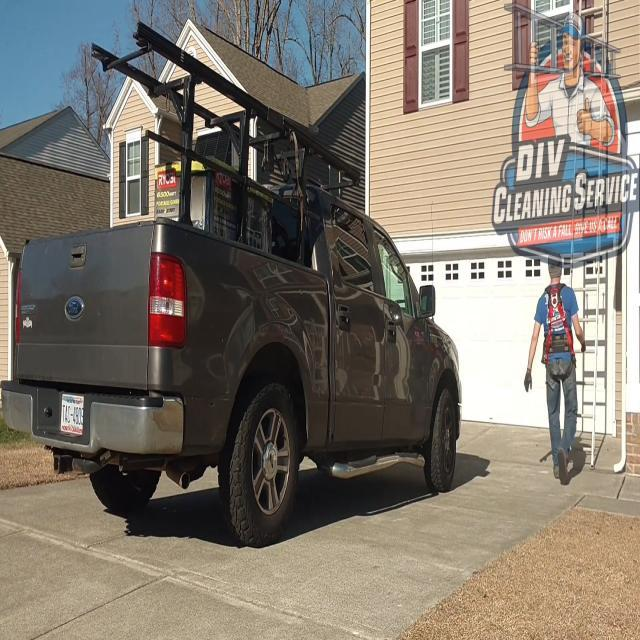belt: (538, 278, 577, 384)
